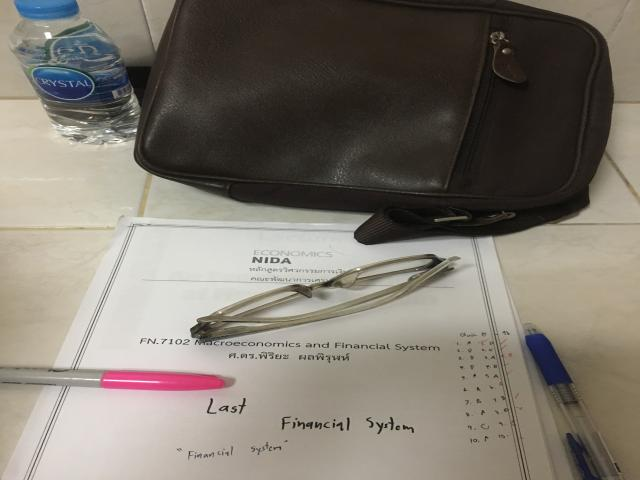Glasses: (190, 254, 460, 342)
Pen: (523, 323, 625, 480), (0, 368, 225, 391)
bottle: (10, 0, 140, 144)
paper: (3, 217, 553, 480)
